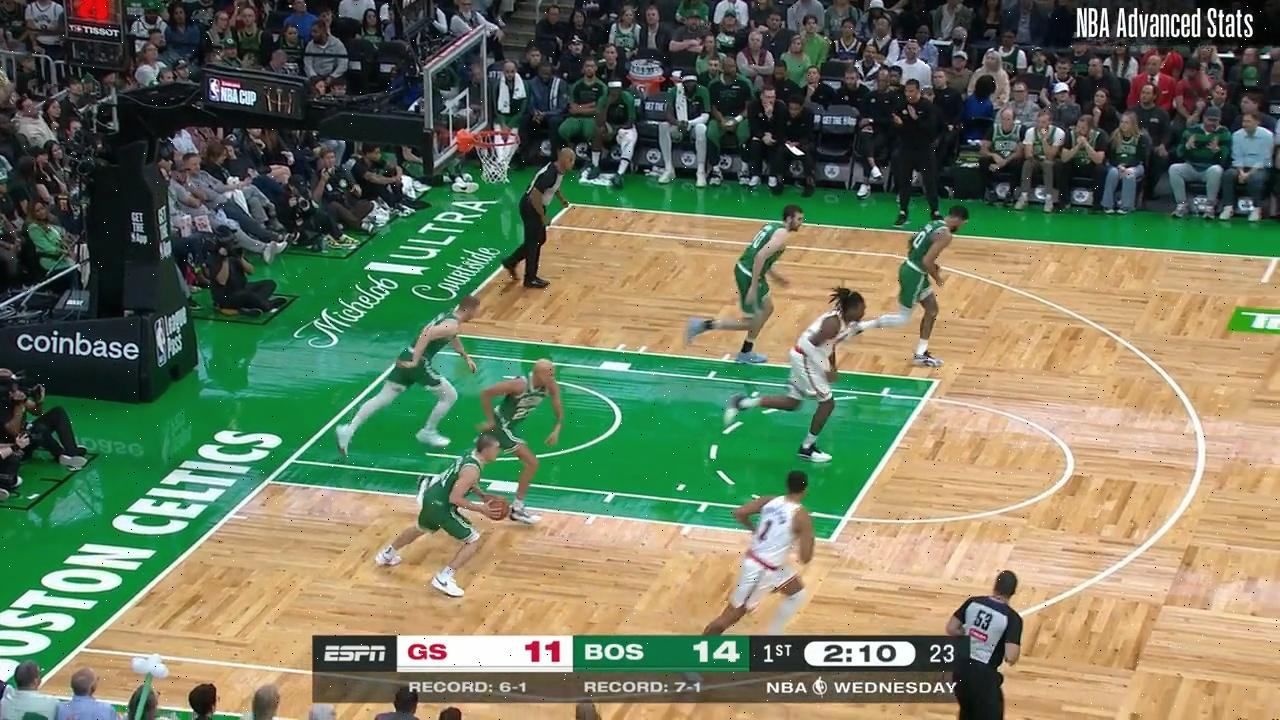basketball: (481, 494, 513, 523)
